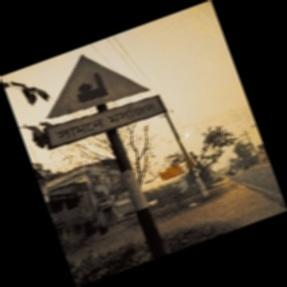Mosque in front: (42, 53, 161, 151)
